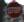Stop sign: (0, 0, 23, 21)
